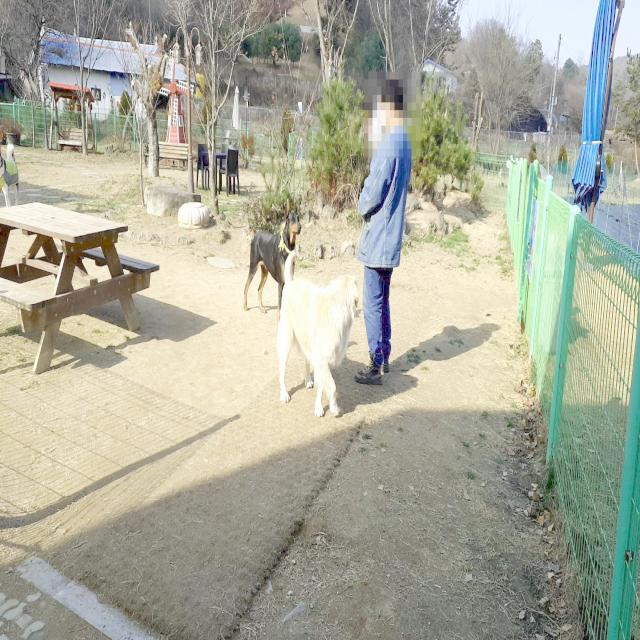Unleashed_Dog: (277, 196, 406, 418), (242, 195, 394, 322)
